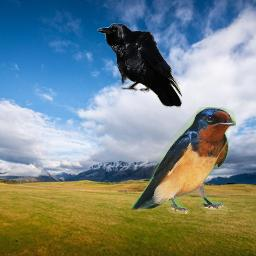Crow: (97, 23, 184, 108)
Swallow: (129, 107, 236, 214)
